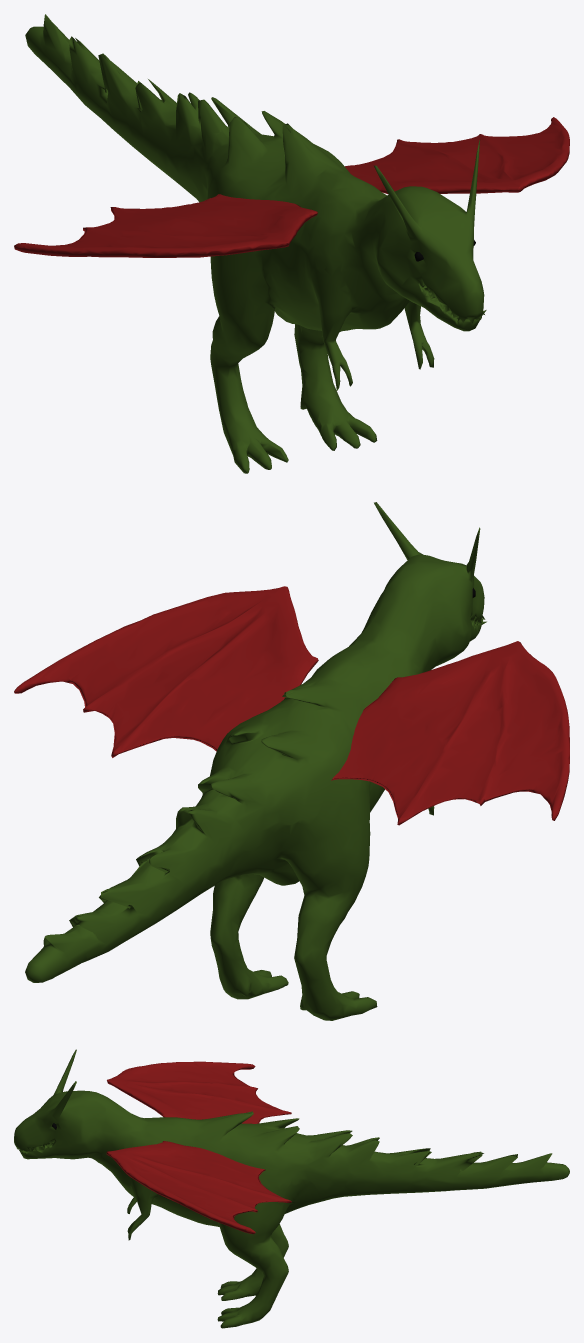
Rendered from trex2.obj.
3 views of the same model, one above another, from view 1: azimuth 30°, elevation 25°; view 2: azimuth 150°, elevation 25°; view 3: azimuth 270°, elevation 25° (orthographic). The views are drawn at different scales.
Visible parts, largest first — view 1: Trex01:TRex:tRex, Trex01:Wings:batWings; view 2: Trex01:TRex:tRex, Trex01:Wings:batWings; view 3: Trex01:TRex:tRex, Trex01:Wings:batWings.
Part boxes in pixels (bbox=[...]): Trex01:TRex:tRex: bbox=[25, 14, 486, 473]; Trex01:Wings:batWings: bbox=[14, 117, 569, 257]; Trex01:TRex:tRex: bbox=[25, 502, 486, 1020]; Trex01:Wings:batWings: bbox=[14, 586, 569, 825]; Trex01:TRex:tRex: bbox=[14, 1049, 569, 1328]; Trex01:Wings:batWings: bbox=[106, 1061, 291, 1234].
Size of the model in its own units: 658 by 456 by 942.
